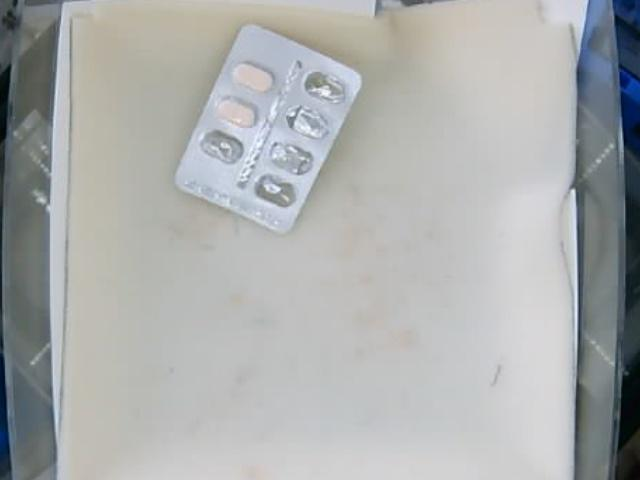Medicine: (169, 21, 364, 229)
